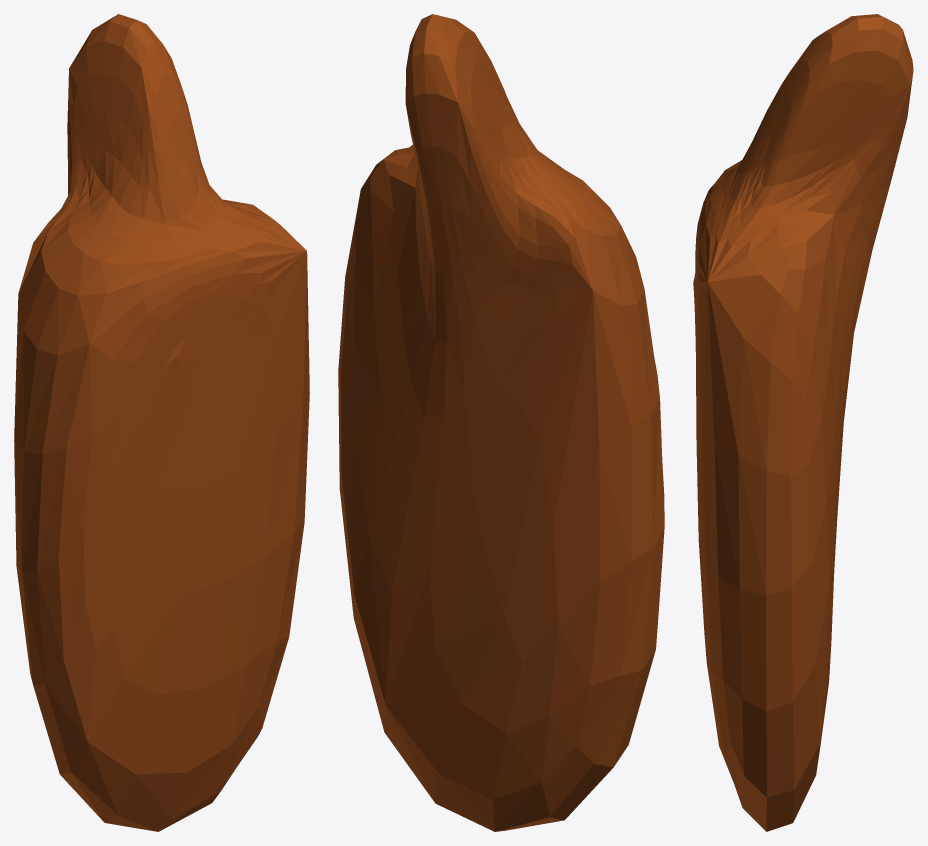
3 views of the same model, side by side, from view 1: azimuth 30°, elevation 25°; view 2: azimuth 150°, elevation 25°; view 3: azimuth 270°, elevation 25° (orthographic). The views are drawn at different scales.
Visible parts, largest first — view 1: 483_Cube.1960; view 2: 483_Cube.1960; view 3: 483_Cube.1960.
Part boxes in pixels (<box>): 483_Cube.1960: <box>14,14,309,831</box>; 483_Cube.1960: <box>338,14,664,831</box>; 483_Cube.1960: <box>693,14,913,831</box>.
Bounding box in the file's own units: 5.43 × 14.31 × 3.51.
